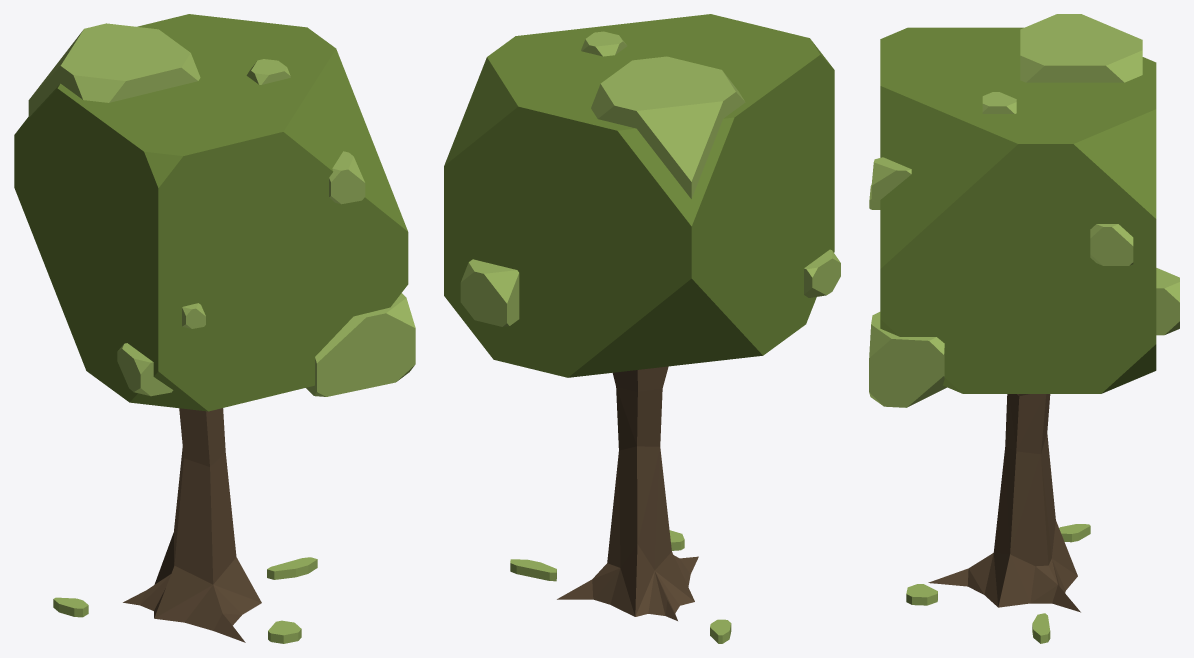
Rendered from Tree_D_02.FBX.
3 views of the same model, side by side, from view 1: azimuth 30°, elevation 25°; view 2: azimuth 150°, elevation 25°; view 3: azimuth 270°, elevation 25° (orthographic). The views are drawn at different scales.
Parts seen in each view (by area): view 1: Tree_D_02; view 2: Tree_D_02; view 3: Tree_D_02.
Boxes of the visible parts, box(x1,y1,x2,y2) form: Tree_D_02: box(14, 14, 415, 643); Tree_D_02: box(444, 14, 840, 643); Tree_D_02: box(869, 14, 1179, 643).
Size of the model in its own units: 1.65 by 3.15 by 1.71.
